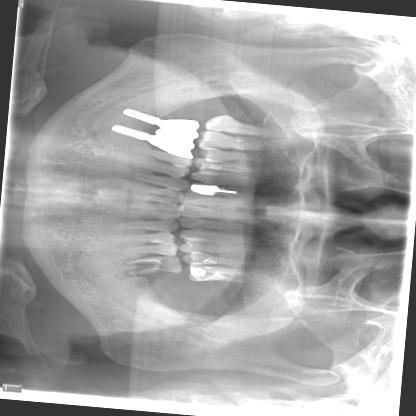ITI: (112, 103, 173, 130), (101, 121, 158, 144)
